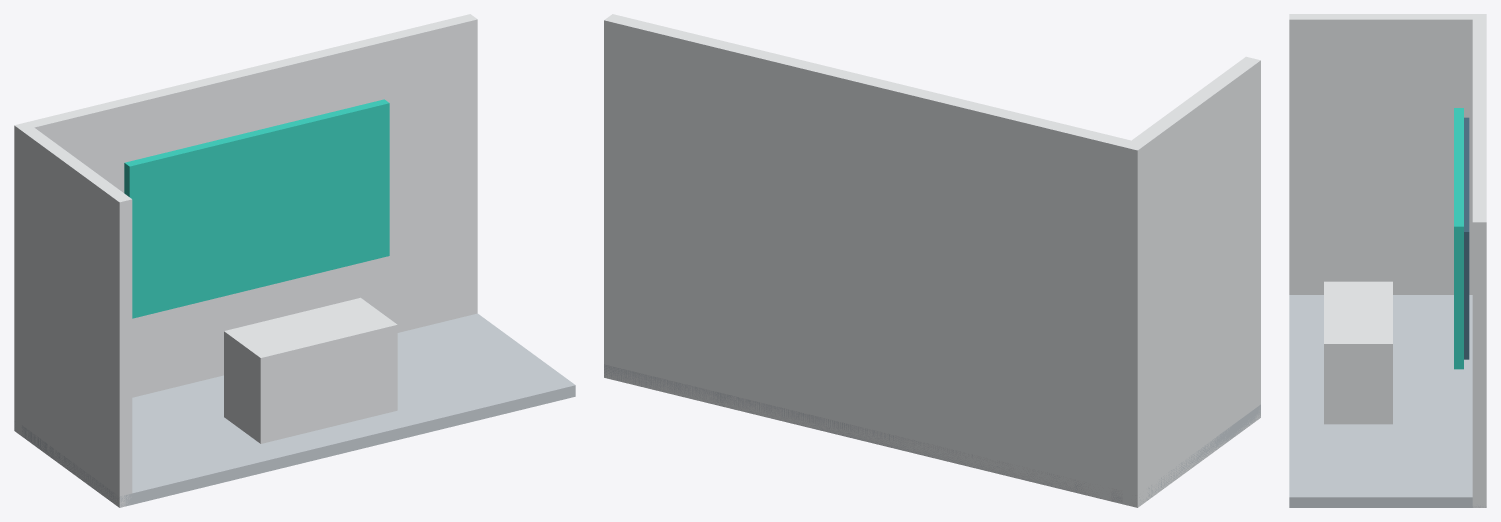
3 views of the same model, side by side, from view 1: azimuth 30°, elevation 25°; view 2: azimuth 150°, elevation 25°; view 3: azimuth 270°, elevation 25° (orthographic). The views are drawn at different scales.
Parts seen in each view (by area): view 1: Exhibition Booth Concept; view 2: Exhibition Booth Concept; view 3: Exhibition Booth Concept.
Part boxes in pixels (bbox=[...]): Exhibition Booth Concept: bbox=[14, 14, 575, 507]; Exhibition Booth Concept: bbox=[604, 14, 1260, 507]; Exhibition Booth Concept: bbox=[1289, 14, 1486, 507].
Size of the model in its own units: 5 by 3.2 by 2.
